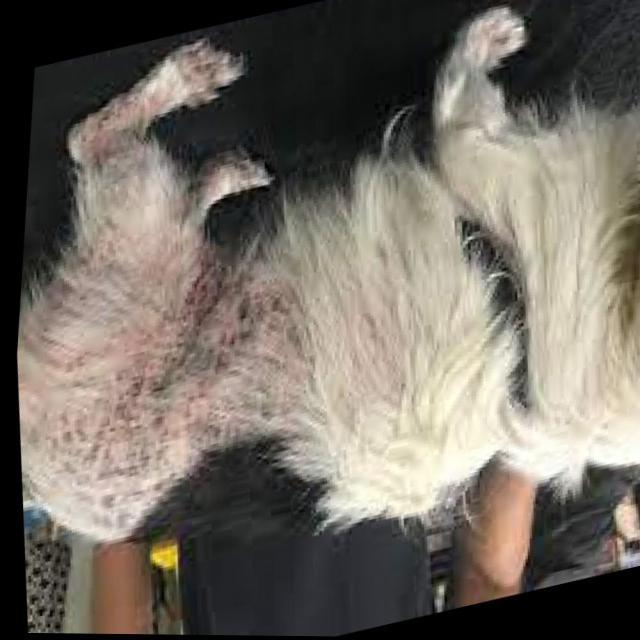allergic dermatitis: (85, 282, 303, 443), (28, 336, 174, 508), (89, 143, 200, 326)
